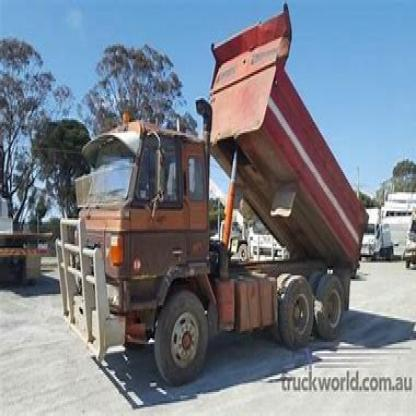dump_truck: (74, 15, 384, 373)
